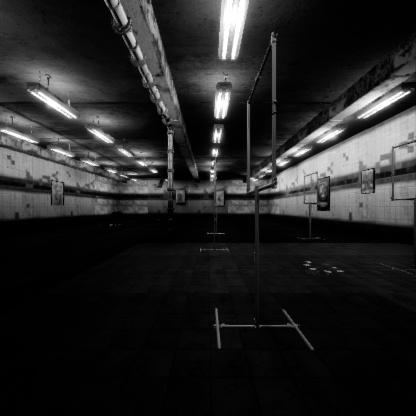gate: (251, 219, 283, 390), (392, 214, 416, 288), (304, 211, 319, 244), (215, 212, 217, 259), (216, 211, 217, 238)
